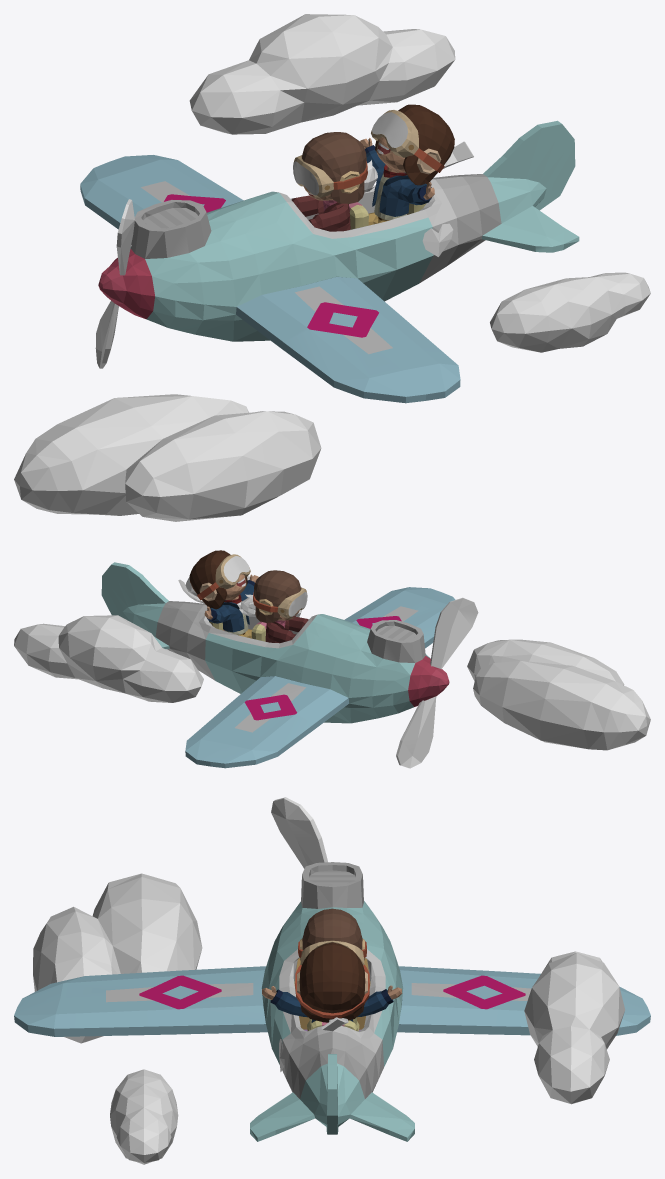
The model's file is 0027_flyToTheSky.fbx.
The picture shows the model from 3 angles, top to bottom: view 1: azimuth 30°, elevation 25°; view 2: azimuth 150°, elevation 25°; view 3: azimuth 270°, elevation 25°; orthographic projection. The views are drawn at different scales.
Parts seen in each view (by area): view 1: airplane_base, cloud1, cloud2, airplane_wing, cloud3, airplane_wing2, Boy_face, girl_face, Boy_body, Boy_goggles, airplane_prop2, airplane_prop1 (+2 smaller); view 2: airplane_base, cloud1, cloud2, airplane_wing2, airplane_wing, airplane_prop1, airplane_prop2, Boy_face, girl_face, Boy_body, Boy_goggles, girl_goggles (+3 smaller); view 3: airplane_base, airplane_wing, cloud1, cloud2, airplane_wing2, cloud3, Boy_face, airplane_prop1, girl_face, Boy_goggles, Boy_leftArm, Boy_rightArm.
Part boxes in pixels (x1,y1,x2,y2): airplane_base: (98,120,579,341); cloud1: (14,394,321,521); cloud2: (189,14,455,134); airplane_wing: (236,277,460,403); cloud3: (490,272,650,352); airplane_wing2: (80,155,243,229); Boy_face: (375,104,454,185); girl_face: (302,132,366,203); Boy_body: (372,164,412,219); Boy_goggles: (371,110,444,172); airplane_prop2: (95,301,118,368); airplane_prop1: (116,199,134,275); airplane_base: (101,562,449,723); cloud1: (467,639,650,750); cloud2: (14,615,203,702); airplane_wing2: (185,676,349,768); airplane_wing: (344,587,455,648); airplane_prop1: (430,597,478,669); airplane_prop2: (396,696,436,768); Boy_face: (189,550,247,609); girl_face: (254,570,300,622); Boy_body: (220,594,249,634); Boy_goggles: (197,554,250,600); girl_goggles: (253,587,306,618); airplane_base: (250,862,414,1141); airplane_wing: (14,966,267,1036); cloud1: (33,873,202,1043); cloud2: (524,951,625,1104); airplane_wing2: (397,966,650,1035); cloud3: (110,1069,178,1164); Boy_face: (297,942,367,1022); airplane_prop1: (271,797,327,868); girl_face: (300,908,364,960); Boy_goggles: (295,940,369,1018); Boy_leftArm: (262,986,307,1017); Boy_rightArm: (357,985,402,1017).
Size of the model in its own units: 13.58 by 4.67 by 11.59.
